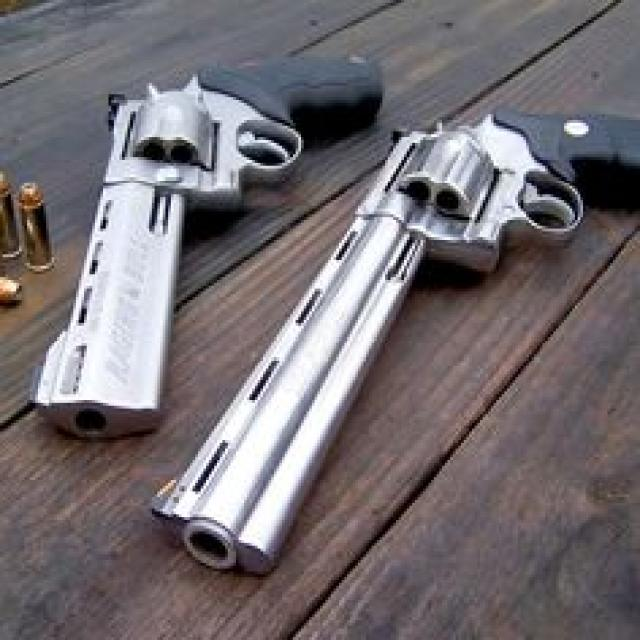revolver: (8, 0, 385, 483)
